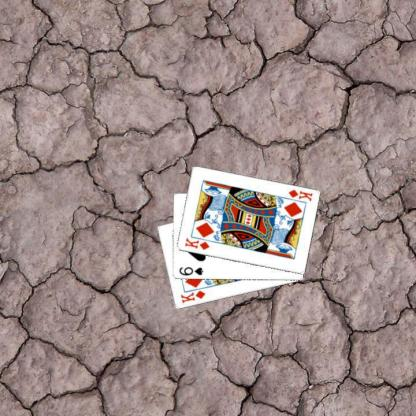6S: (177, 264, 204, 276)
KD: (178, 288, 207, 304), (285, 186, 314, 202), (182, 235, 210, 251)
